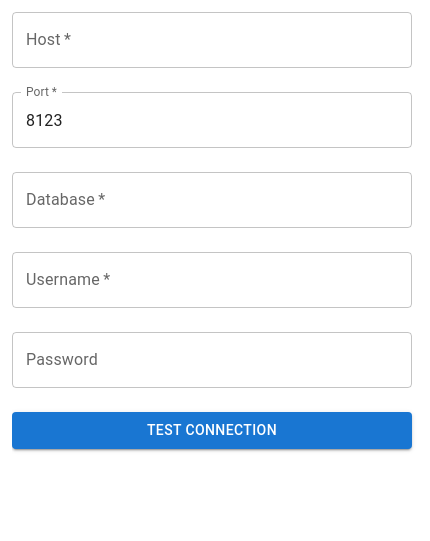
Test: ClickHouseConfigForm › validates required fields
Click the button "Test Connection". click: point(212, 430)
box: [12,412,412,448]
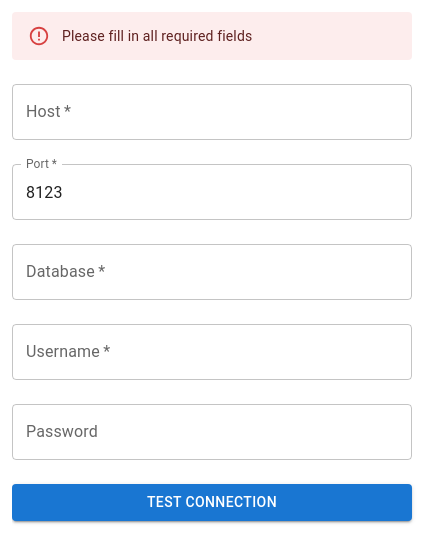
Now the text "Please fill in all required fields" is shown, box [62,28,252,44]
